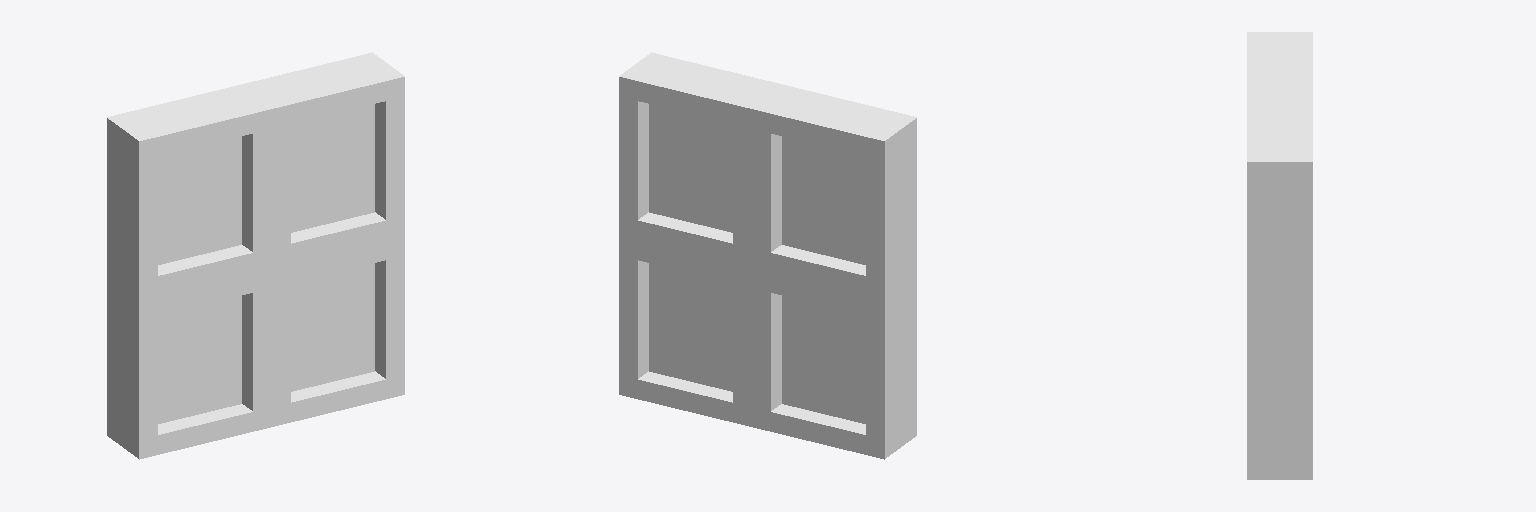
The model's file is Interior_Furniture-3.obj.
3 views of the same model, side by side, from view 1: azimuth 30°, elevation 25°; view 2: azimuth 150°, elevation 25°; view 3: azimuth 270°, elevation 25° (orthographic).
Parts seen in each view (by area): view 1: object 1; view 2: object 1; view 3: object 1.
Part boxes in pixels (bbox=[...]): object 1: bbox=[107, 52, 404, 459]; object 1: bbox=[619, 52, 916, 459]; object 1: bbox=[1247, 32, 1312, 479].
Bounding box in the file's own units: 1.4 × 1.6 × 0.3.